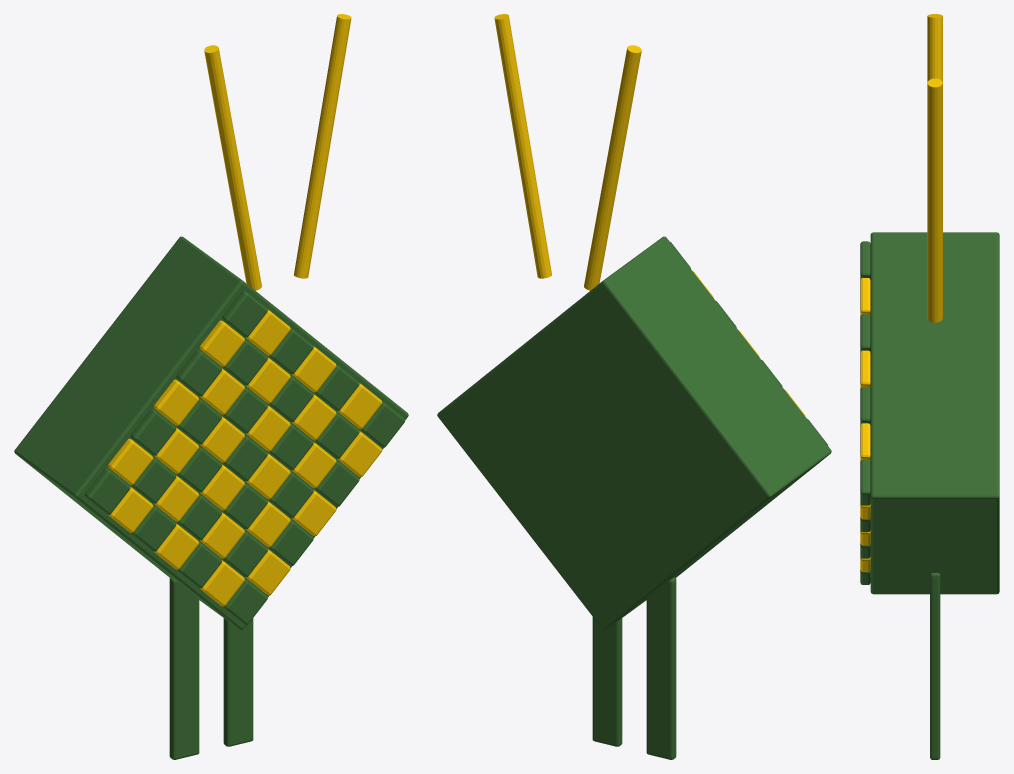
File: source-edit.glb
3 views of the same model, side by side, from view 1: azimuth 30°, elevation 25°; view 2: azimuth 150°, elevation 25°; view 3: azimuth 270°, elevation 25° (orthographic). The views are drawn at different scales.
Visible parts, largest first — view 1: Woven_Core, Palm_Tail, Hanging_Loop_Left, Hanging_Loop_Right, Palm_Tail.001, Palm_Weave_0_4, Palm_Weave_0_1, Palm_Weave_0_0, Palm_Weave_0_6, Palm_Weave_0_2, Palm_Weave_0_3, Palm_Weave_0_5 (+42 smaller); view 2: Woven_Core, Palm_Tail, Hanging_Loop_Left, Hanging_Loop_Right, Palm_Tail.001; view 3: Woven_Core, Hanging_Loop_Left, Palm_Tail.001, Hanging_Loop_Right, Palm_Weave_6_6, Palm_Weave_2_6, Palm_Weave_0_6, Palm_Weave_1_6, Palm_Weave_3_6, Palm_Weave_4_6, Palm_Weave_5_6.
Part boxes in pixels (x1,y1,x2,y2): Woven_Core: (14,236,408,629); Palm_Tail: (169,577,199,759); Hanging_Loop_Left: (294,14,351,278); Hanging_Loop_Right: (204,45,261,290); Palm_Tail.001: (223,618,253,746); Palm_Weave_0_4: (176,350,221,396); Palm_Weave_0_1: (108,438,153,484); Palm_Weave_0_0: (85,468,130,514); Palm_Weave_0_6: (222,291,267,337); Palm_Weave_0_2: (131,409,176,455); Palm_Weave_0_3: (153,379,198,425); Palm_Weave_0_5: (199,320,244,366); Woven_Core: (437,236,831,629); Palm_Tail: (646,577,676,759); Hanging_Loop_Left: (494,14,551,278); Hanging_Loop_Right: (584,45,641,290); Palm_Tail.001: (592,617,622,746); Woven_Core: (870,232,999,594); Hanging_Loop_Left: (927,78,942,322); Palm_Tail.001: (930,573,940,759); Hanging_Loop_Right: (927,14,942,82); Palm_Weave_6_6: (860,459,870,505); Palm_Weave_2_6: (860,314,870,352); Palm_Weave_0_6: (860,241,870,279); Palm_Weave_1_6: (860,278,870,315); Palm_Weave_3_6: (860,350,870,388); Palm_Weave_4_6: (860,387,870,424); Palm_Weave_5_6: (860,423,870,461).
Size of the model in its own units: 0.3095 by 0.6211 by 0.108.
